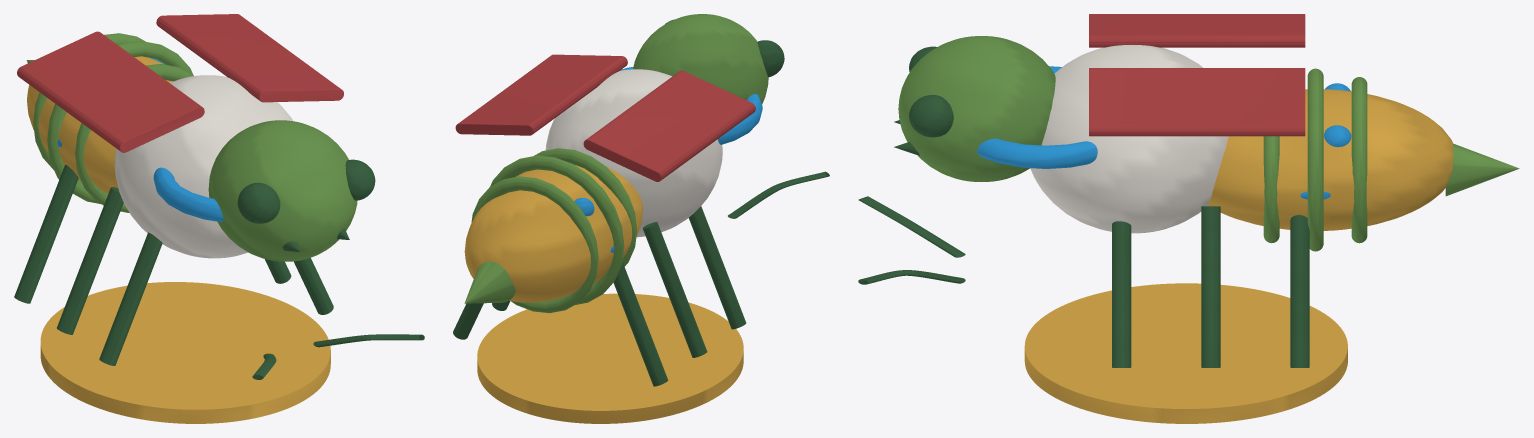
Rendered from 1324_中国古代寓言_螳螂捕蝉.glb.
3 renders of one model, left to right at view 1: azimuth 30°, elevation 25°; view 2: azimuth 150°, elevation 25°; view 3: azimuth 270°, elevation 25°, orthographic. The views are drawn at different scales.
Parts seen in each view (by area): view 1: card_1324; view 2: card_1324; view 3: card_1324.
Boxes of the visible parts, x1,y1,x2,y2 form: card_1324: [14, 14, 424, 423]; card_1324: [453, 14, 829, 423]; card_1324: [858, 14, 1519, 423].
Bounding box in the file's own units: 0.8488 × 1 × 1.89.
